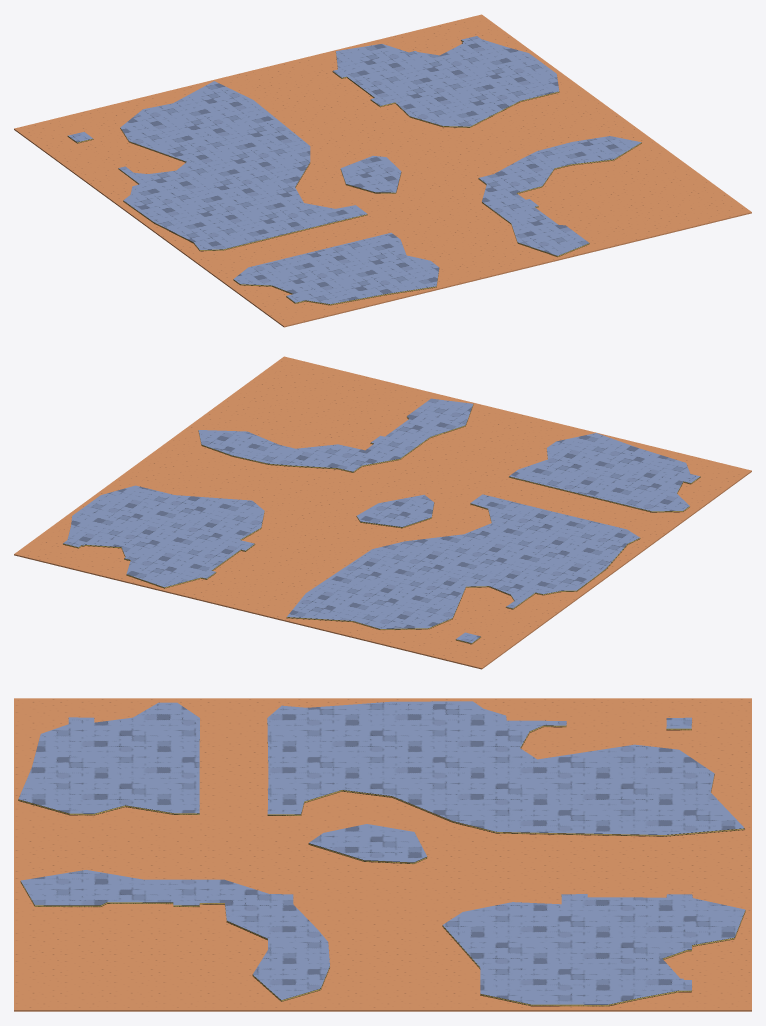
File: floor-tiles-large.glb
The picture shows the model from 3 angles, top to bottom: view 1: azimuth 30°, elevation 25°; view 2: azimuth 150°, elevation 25°; view 3: azimuth 270°, elevation 25°; orthographic projection. The views are drawn at different scales.
Parts seen in each view (by area): view 1: Floor_Tiles_Large; view 2: Floor_Tiles_Large; view 3: Floor_Tiles_Large.
Boxes of the visible parts, box(x1,y1,x2,y2) form: Floor_Tiles_Large: box(14, 14, 751, 327); Floor_Tiles_Large: box(14, 356, 751, 669); Floor_Tiles_Large: box(14, 698, 751, 1011).
Bounding box in the file's own units: 31.68 × 0.1586 × 31.68.
4 materials, 4 textured.
